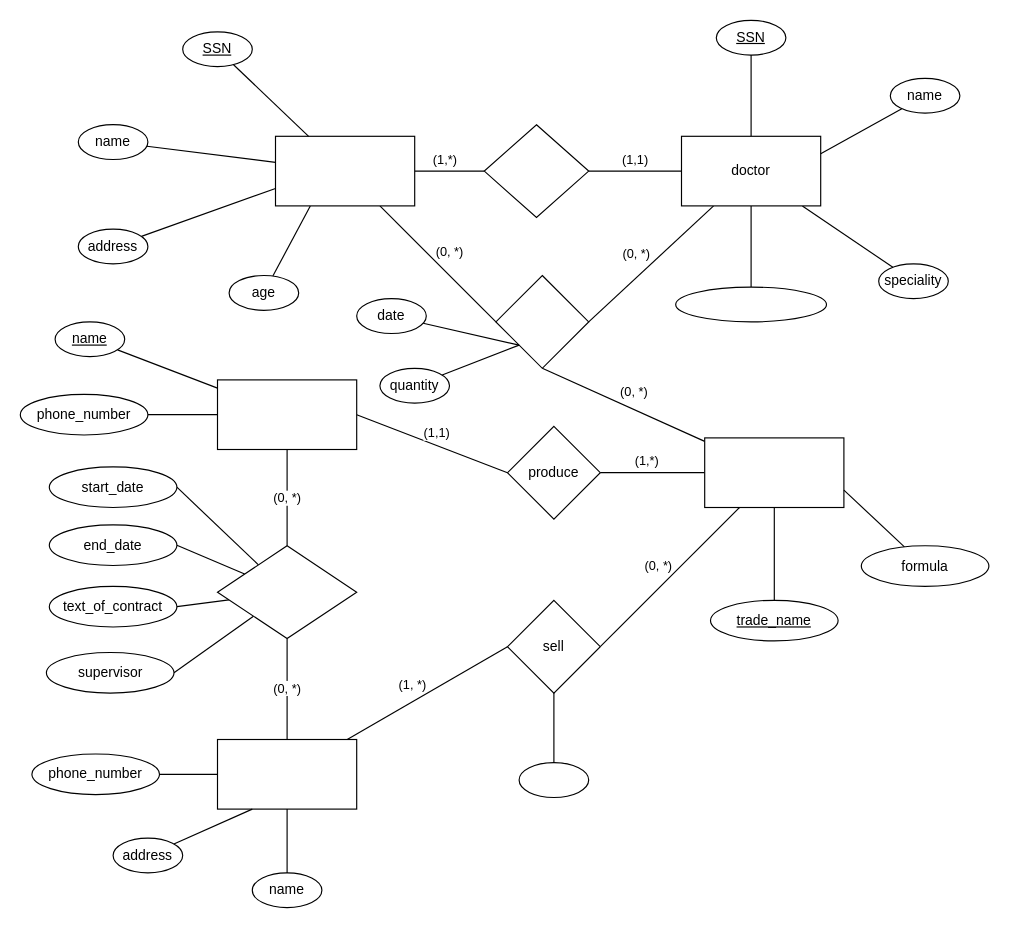
The diagram is 1009 pixels wide and 928 high, and some of its shapes have lost their labels. The centre of each missing label's shape, as x and y in pixels:
"drug" goes at (x=774, y=472).
"have_a_contract" goes at (x=286, y=592).
"paitient" goes at (x=344, y=170).
"pharmacy" goes at (x=286, y=773).
"pharmacy_company" goes at (x=286, y=414).
"prescribe" goes at (x=542, y=321).
"price" goes at (x=553, y=780).
"treat_primary" goes at (x=536, y=170).
"years_of_experience" goes at (x=750, y=304).
